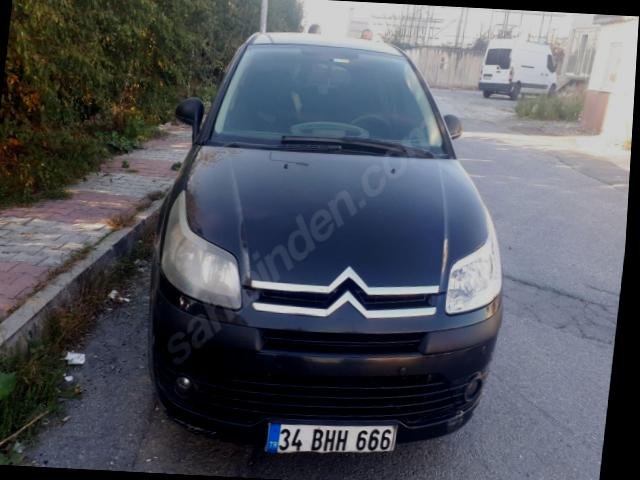plaka: (277, 424, 396, 452)
